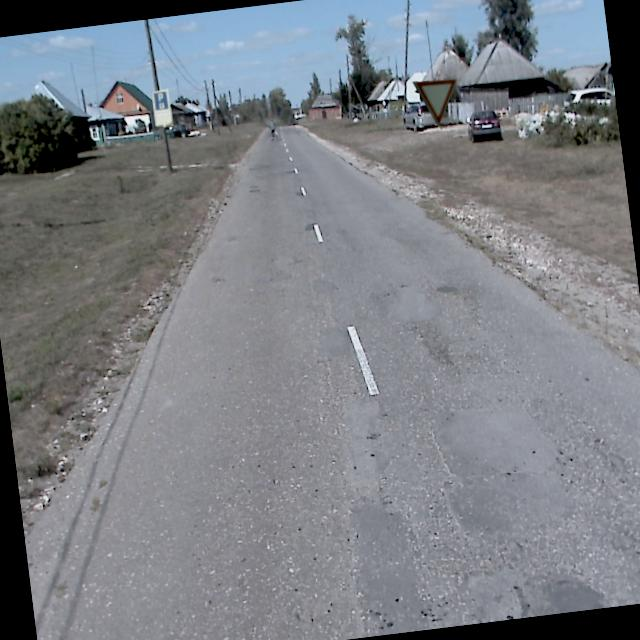road: (25, 124, 640, 640)
